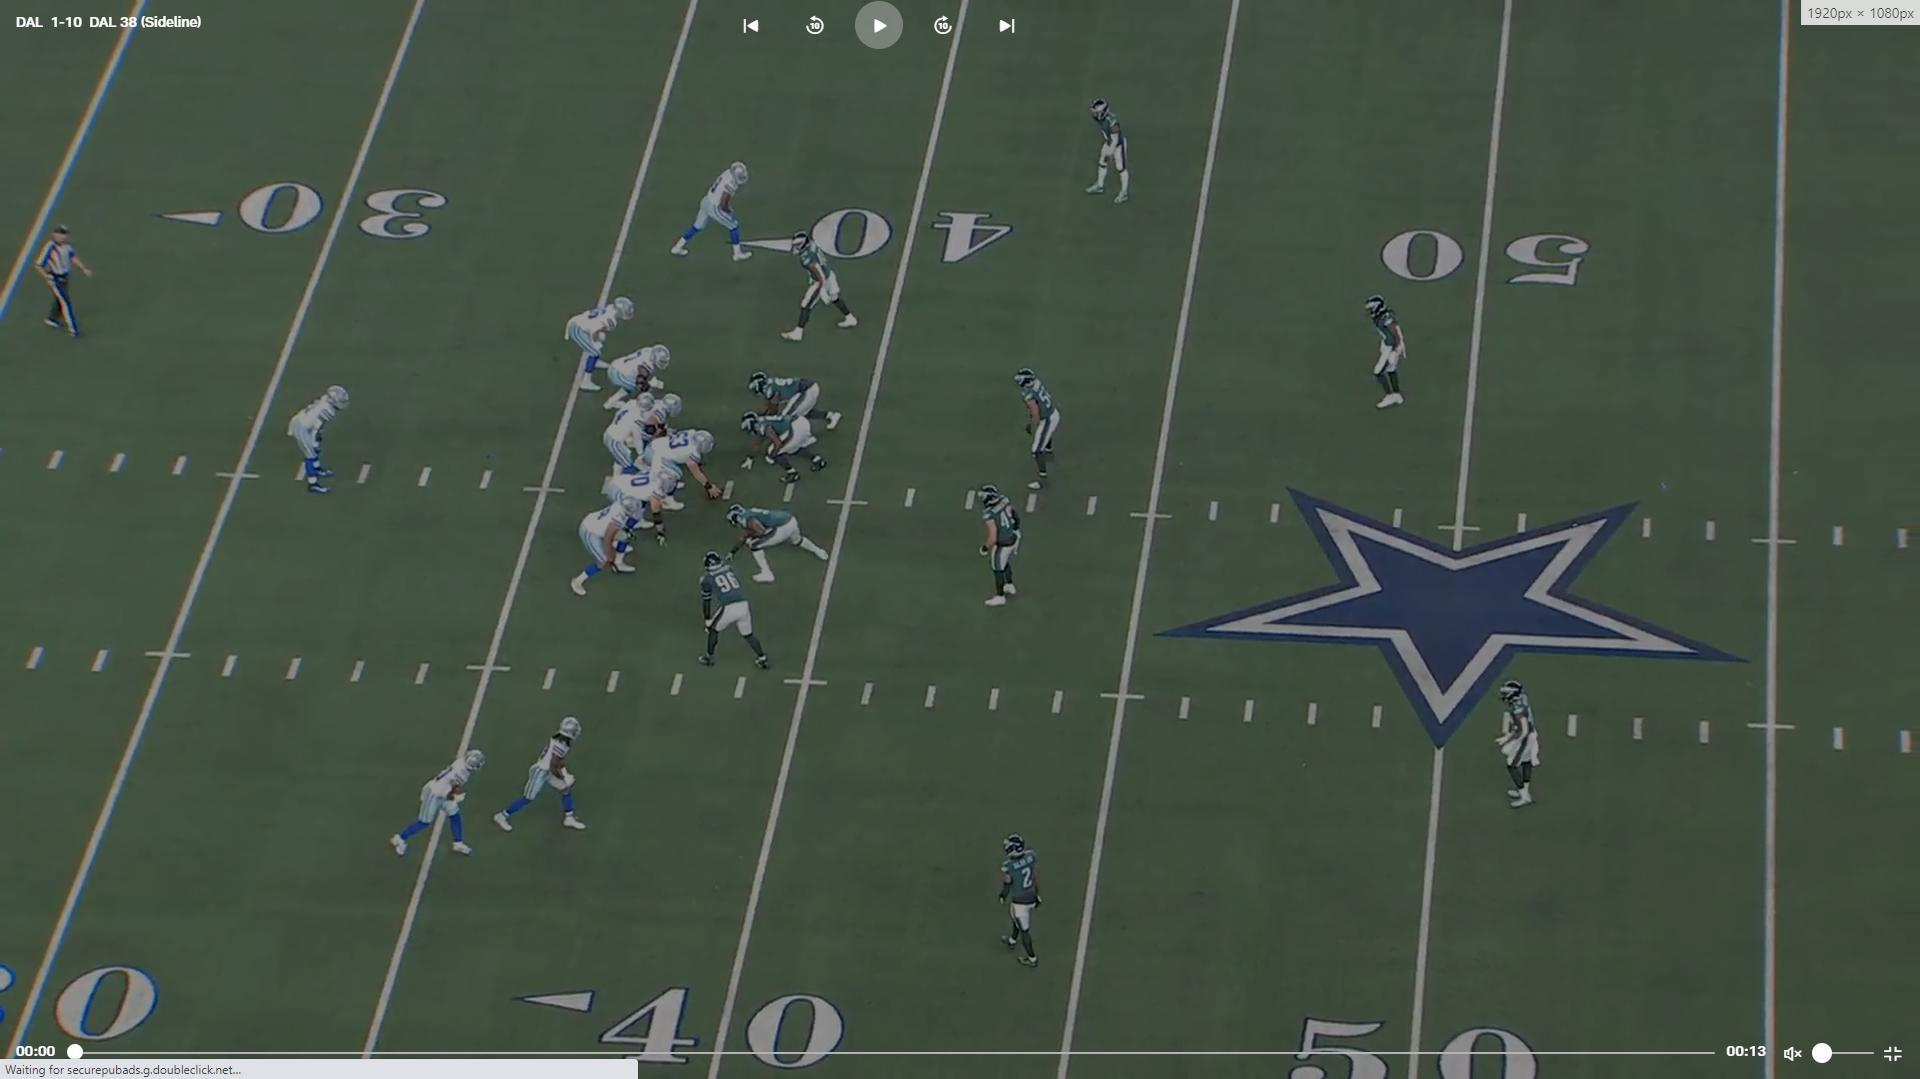player: (383, 741, 489, 865), (496, 714, 593, 842), (697, 547, 782, 673), (669, 161, 758, 266), (724, 502, 831, 585), (995, 828, 1052, 978), (1491, 675, 1548, 819), (287, 382, 355, 497), (574, 497, 652, 597), (1361, 291, 1417, 421), (790, 241, 862, 342), (976, 484, 1032, 613), (740, 411, 828, 492), (1015, 362, 1067, 494), (566, 294, 635, 393), (644, 428, 723, 512), (750, 371, 849, 435), (1081, 94, 1133, 208), (604, 463, 676, 541), (604, 342, 672, 411), (605, 392, 651, 478), (624, 393, 687, 446)
ref: (38, 224, 96, 348)
